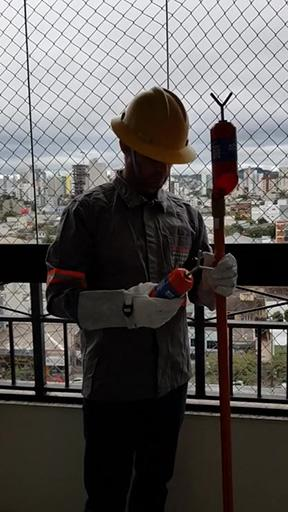Detector_Tensao_Contato: (145, 253, 213, 304), (209, 90, 238, 195)
Vara_Manobra: (208, 195, 238, 512)
